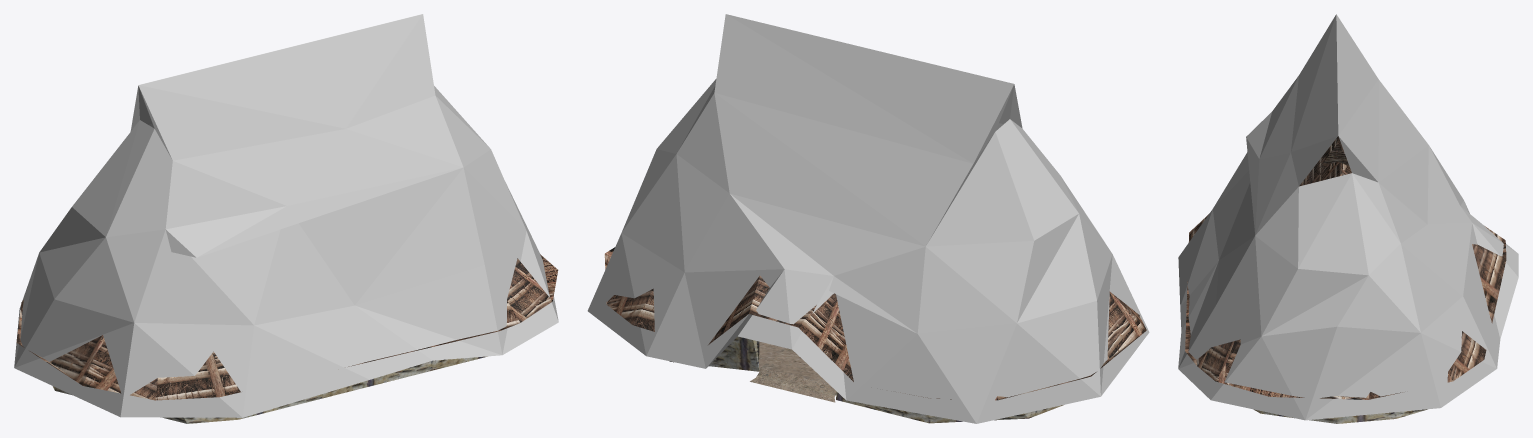
Rendered from Roundhut_3_LOD4.fbx.
The picture shows the model from 3 angles, left to right: view 1: azimuth 30°, elevation 25°; view 2: azimuth 150°, elevation 25°; view 3: azimuth 270°, elevation 25°; orthographic projection. The views are drawn at different scales.
Parts seen in each view (by area): view 1: Alpha, Roofing, Plaster_4; view 2: Alpha, Roofing, Ground, Plaster_4; view 3: Alpha, Roofing, Plaster_4.
Part boxes in pixels (bbox=[...]): Alpha: bbox=[14, 14, 558, 417]; Roofing: bbox=[16, 254, 558, 400]; Plaster_4: bbox=[52, 356, 487, 423]; Alpha: bbox=[587, 14, 1149, 423]; Roofing: bbox=[604, 247, 1146, 400]; Ground: bbox=[750, 341, 836, 402]; Plaster_4: bbox=[669, 336, 1063, 423]; Alpha: bbox=[1178, 14, 1518, 420]; Roofing: bbox=[1185, 136, 1506, 399]; Plaster_4: bbox=[1253, 409, 1427, 423].
Bounding box in the file's own units: 2169 × 1463 × 1191.
